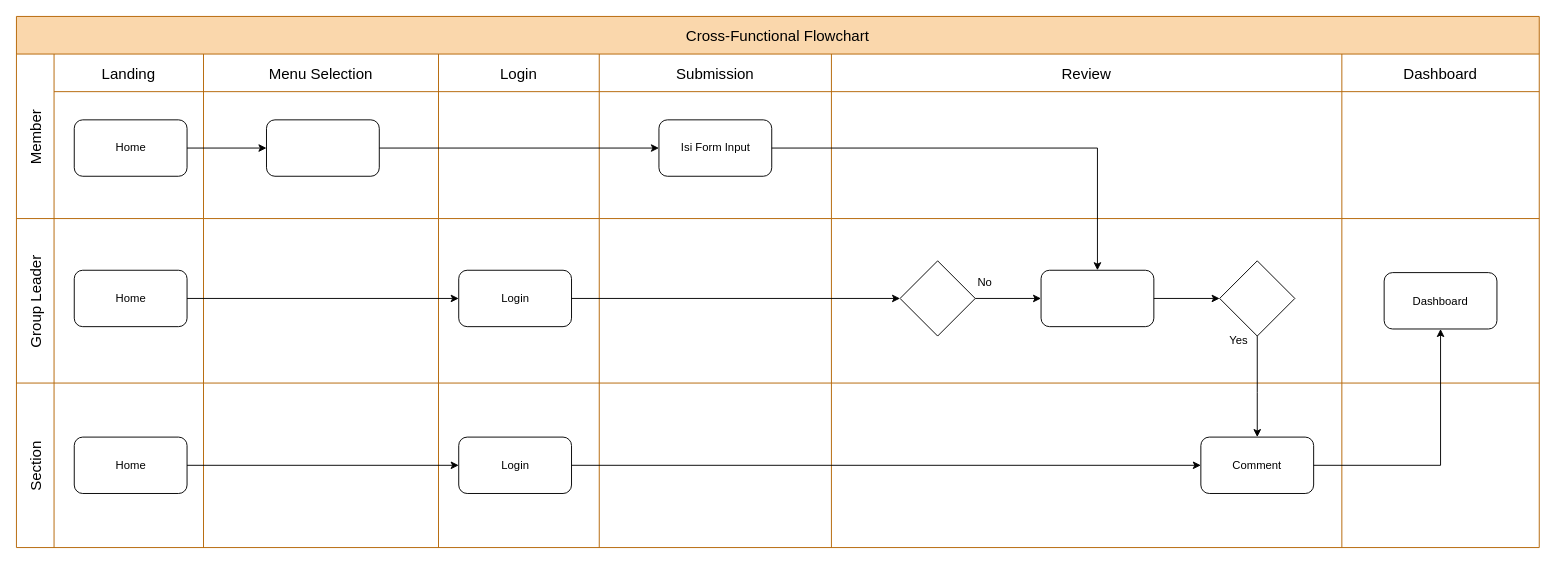
Image size: 1556x564. Some labels were removed from this diagram. The centre of each missing label's shape, as x and y in pixels:
"Countermeasure" belongs at point (1097, 298).
"isReject?" belongs at point (937, 298).
"isSolved?" belongs at point (1257, 298).
"Select Hyarihatto / Voice Member" belongs at point (322, 147).
